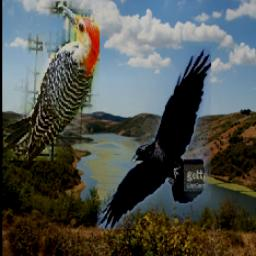Crow: (97, 47, 211, 230)
Woodpecker: (3, 1, 100, 161)
